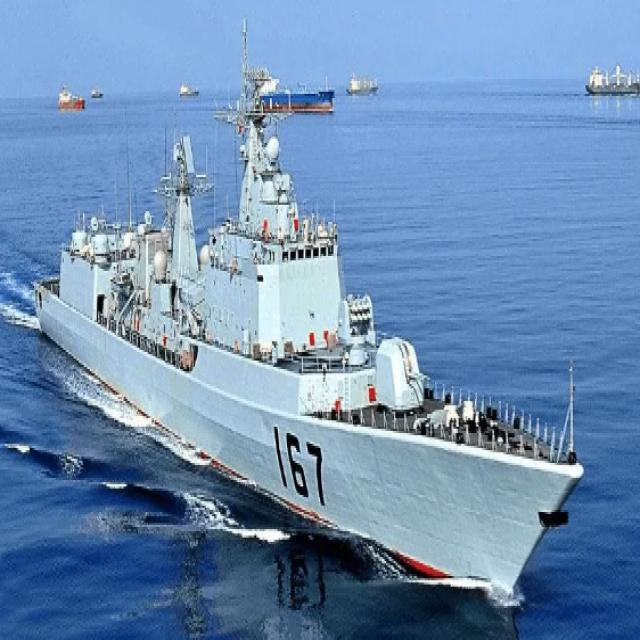cargoship: (261, 69, 335, 109)
navalvessels: (36, 91, 601, 638), (584, 52, 640, 102), (342, 75, 384, 110)
